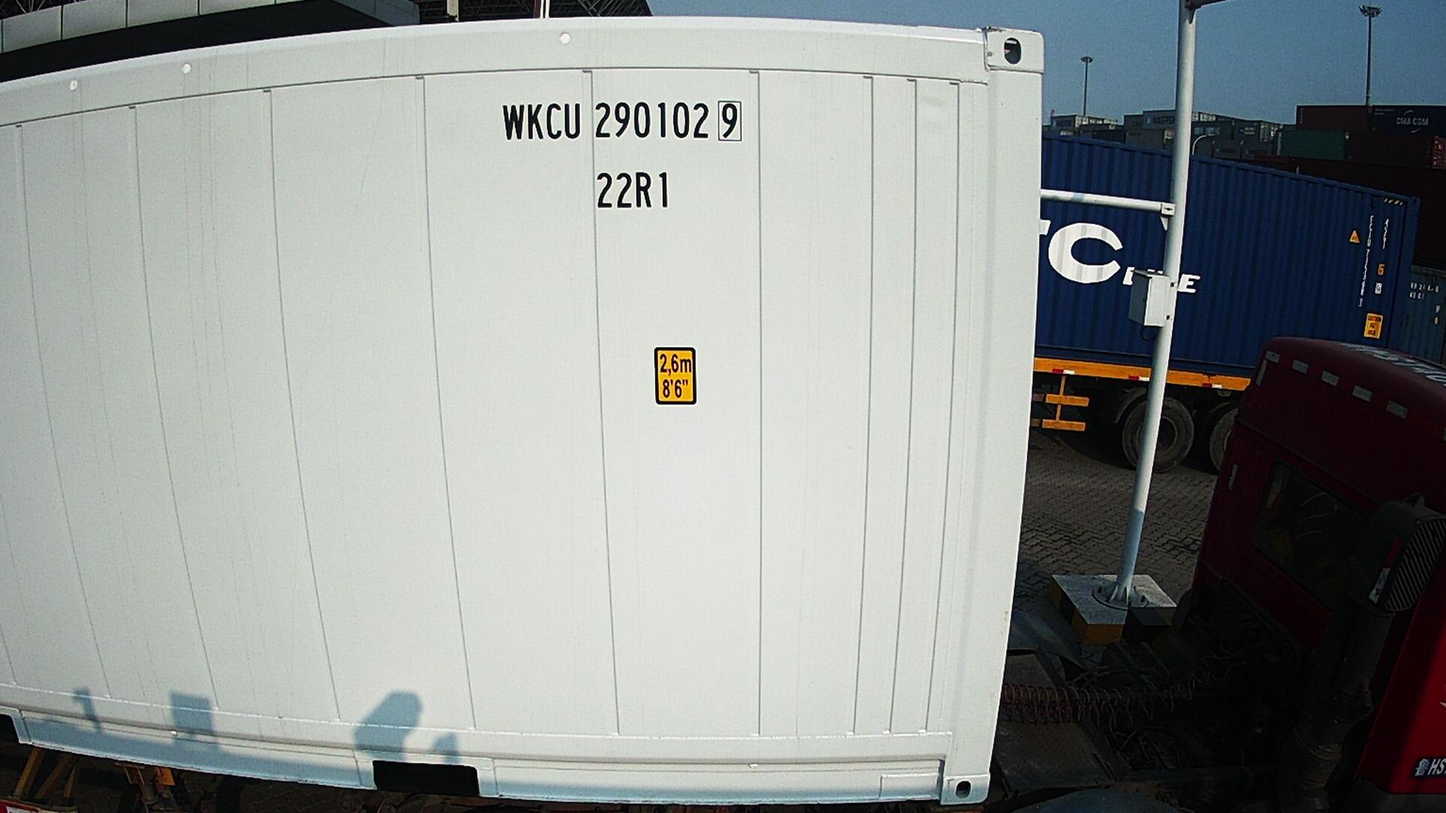container-numbers: (498, 98, 746, 145), (592, 167, 674, 213)
